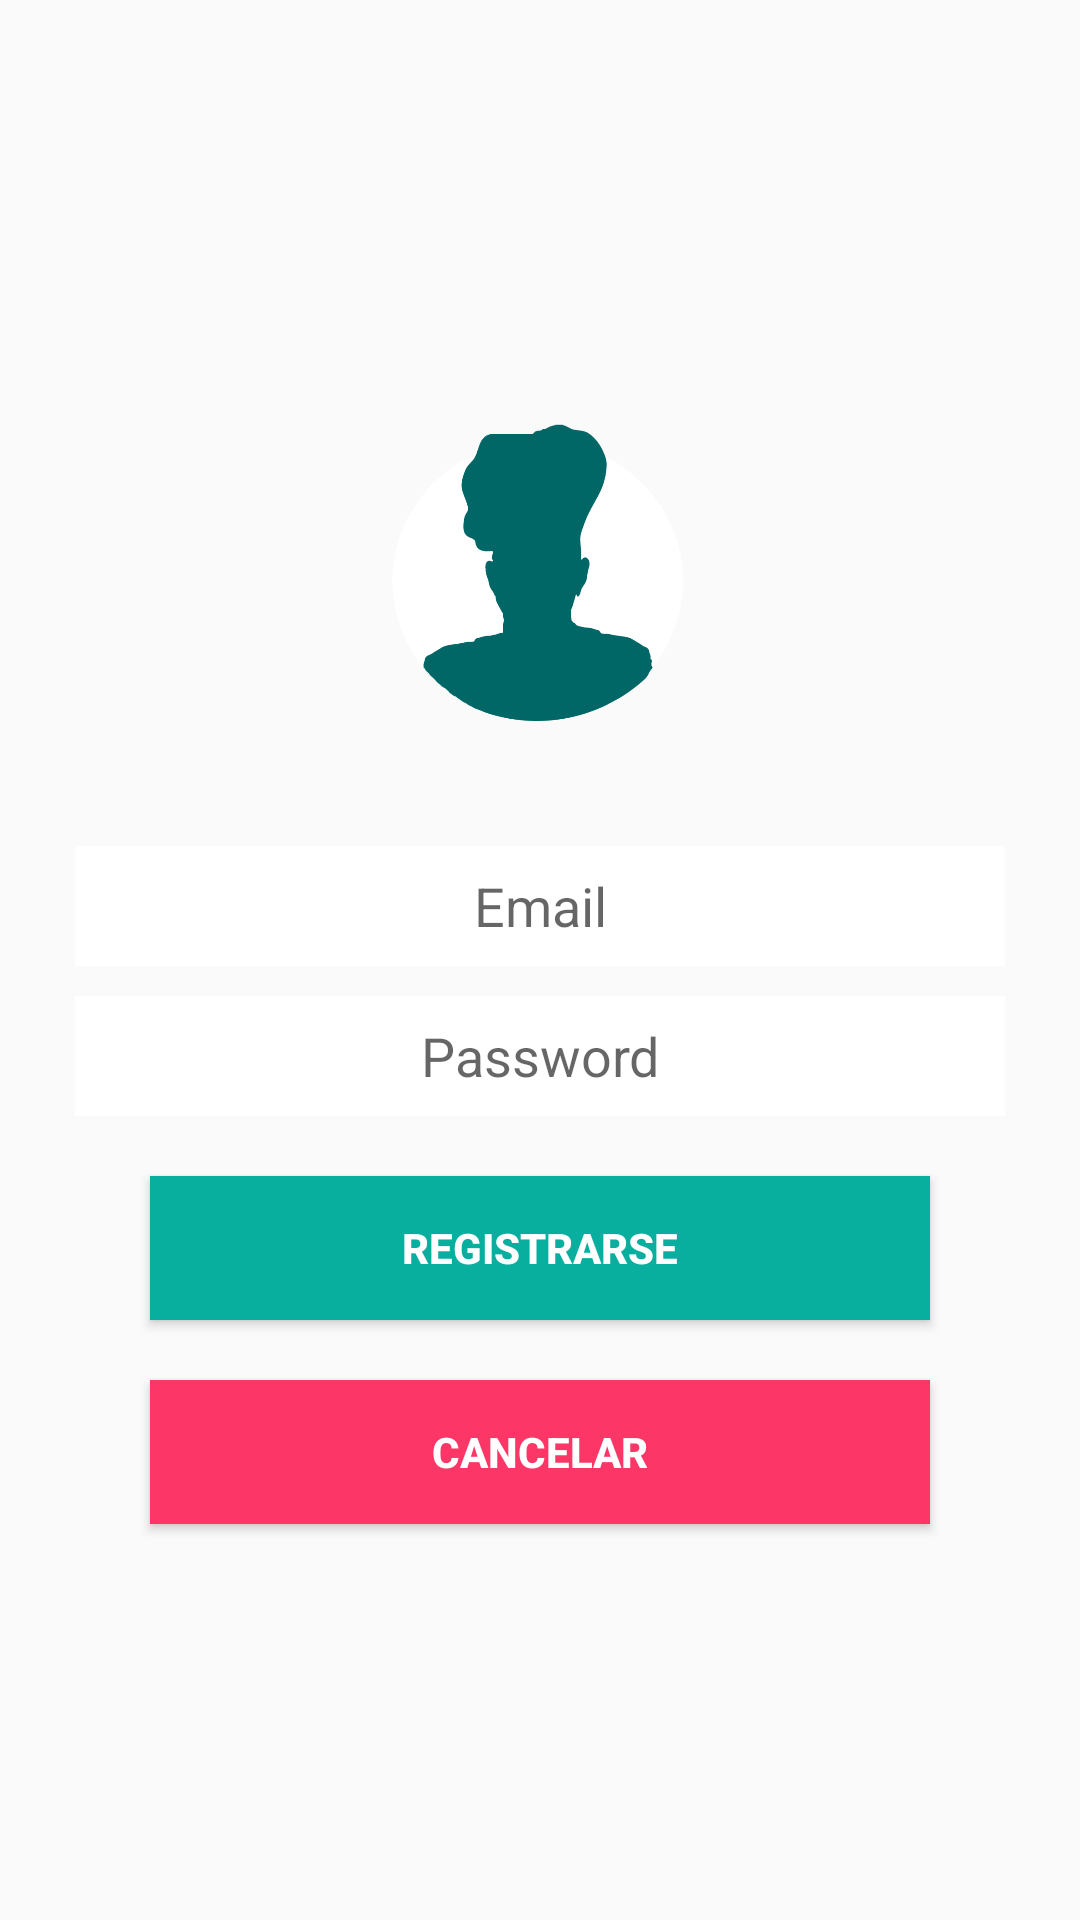

Icons on this 1080 × 1920 Android screen, each with its box as (x1,y1,x2,y2):
usuario: (423,424,653,721)
